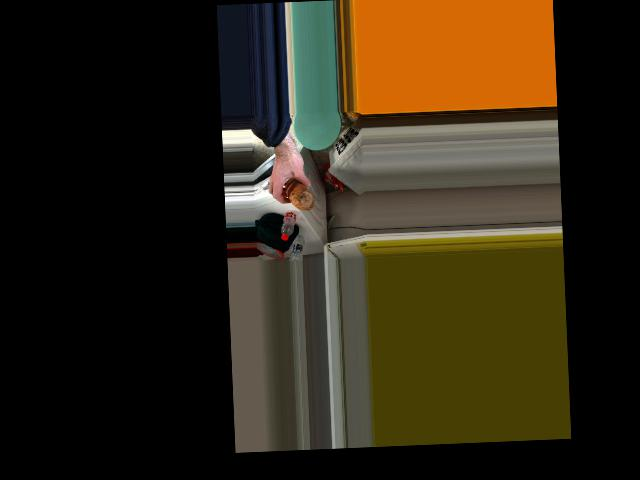sweet_potato: (285, 177, 313, 212)
